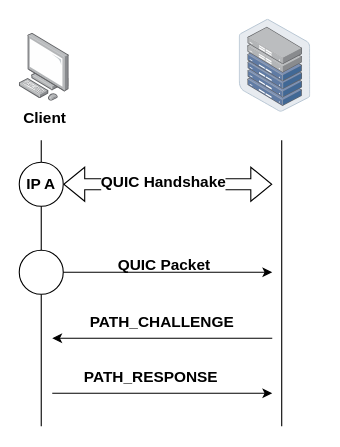
Image size: 340x447. Some labels were removed from this diagram. Each missing label, with the centre of its shape:
IP B: (40,271)
QUIC Server: (274,65)
